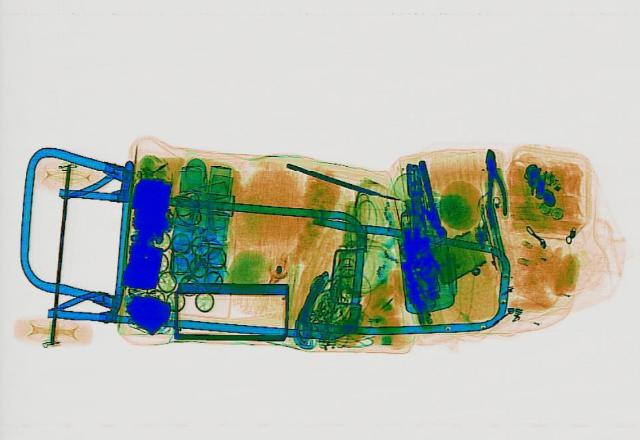Pliers: (477, 147, 511, 227)
